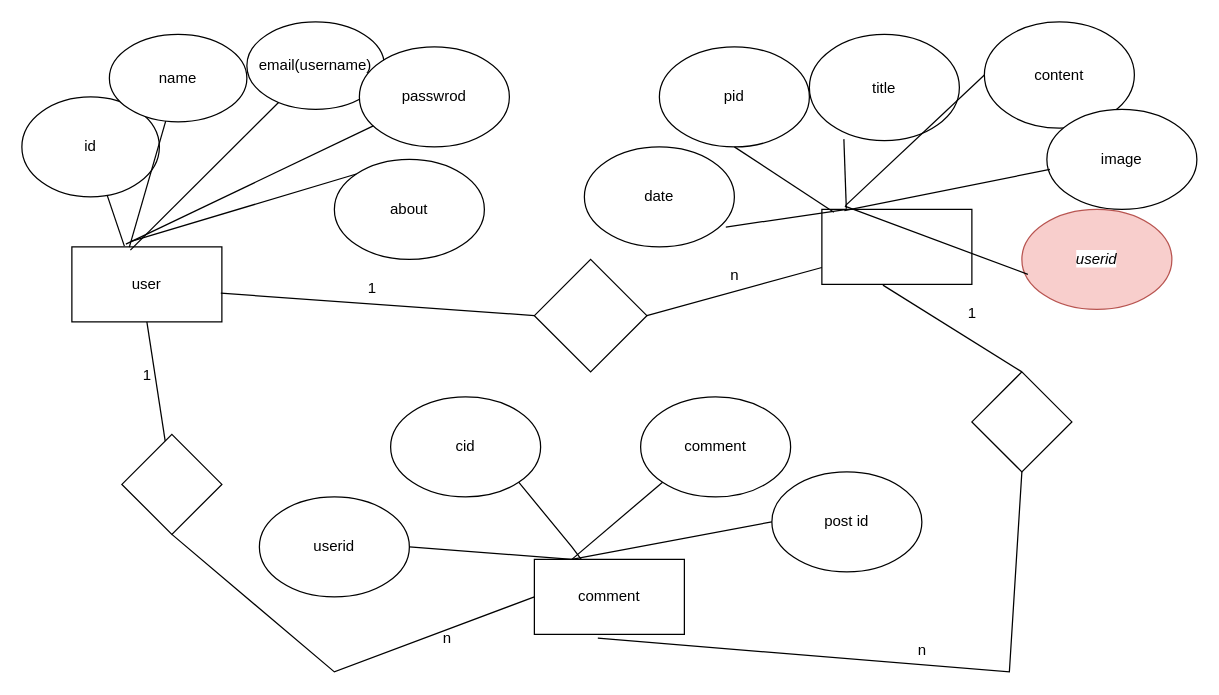
Some shapes in this 1219 by 695 pixel diagram are drawn without their labels. The centre of each missing label's shape, as x and y in pixels:
can create: the point at 590,315
do: the point at 171,483
have: the point at 1021,421
post: the point at 896,246
